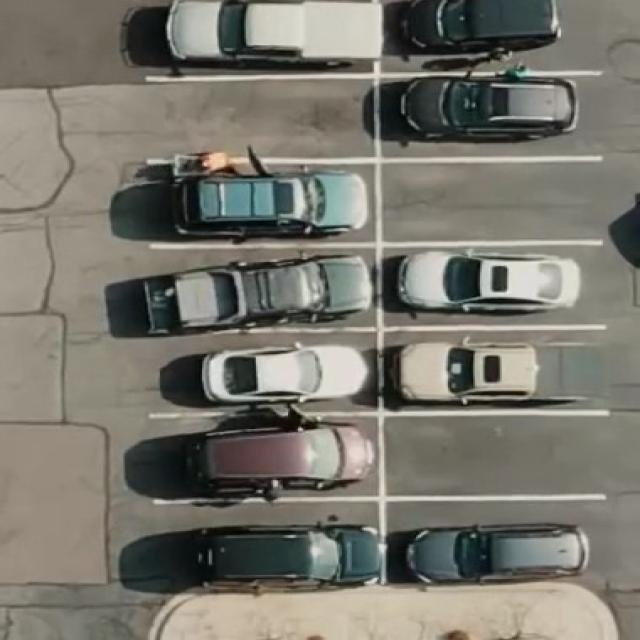space-empty: (135, 72, 377, 160), (379, 156, 606, 248), (381, 411, 606, 501)
space-occupied: (116, 497, 384, 593), (125, 240, 377, 336), (135, 412, 382, 500), (135, 330, 379, 417), (378, 68, 602, 160), (379, 323, 608, 412), (379, 239, 605, 327), (384, 496, 606, 584), (143, 159, 377, 242), (136, 0, 380, 76), (379, 0, 579, 75)
